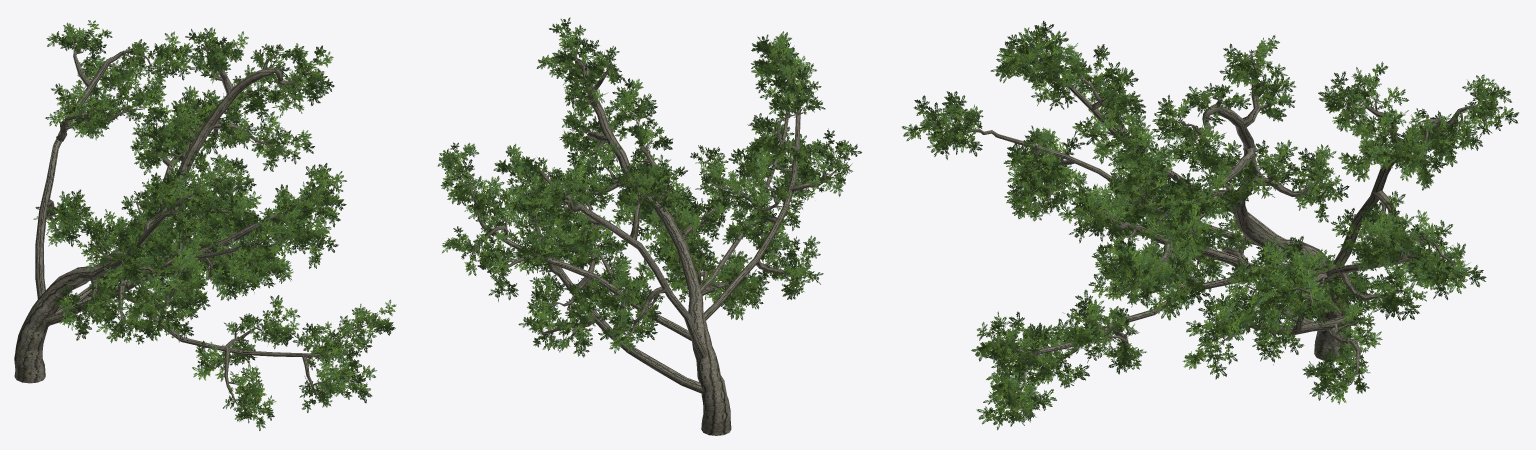
The model's file is tree (6).glb.
3 renders of one model, left to right at view 1: azimuth 30°, elevation 25°; view 2: azimuth 150°, elevation 25°; view 3: azimuth 270°, elevation 25°, orthographic. The views are drawn at different scales.
Parts seen in each view (by area): view 1: Tree; view 2: Tree; view 3: Tree.
Part boxes in pixels (x1,y1,x2,y2): Tree: [14, 20, 396, 430]; Tree: [437, 17, 861, 435]; Tree: [901, 21, 1518, 430].
Bounding box in the file's own units: 57.59 × 55.89 × 77.97.
2 materials, 2 textured.
